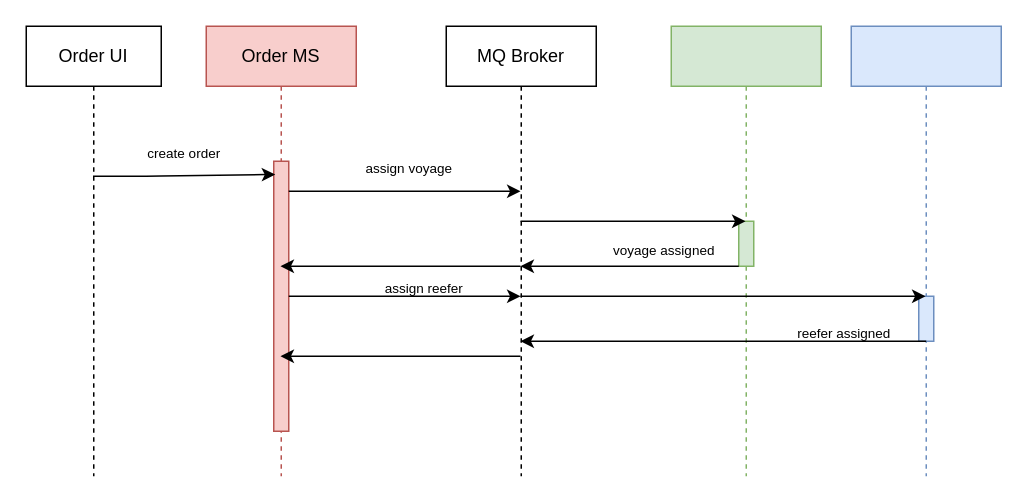
This 1028x503 diagram has some shape labels left out. The box of each missing label's shape, as (x1, y1, x2, y2) in pixels:
Reefer MS: (850, 25, 1001, 476)
Voyage MS: (670, 25, 821, 476)
